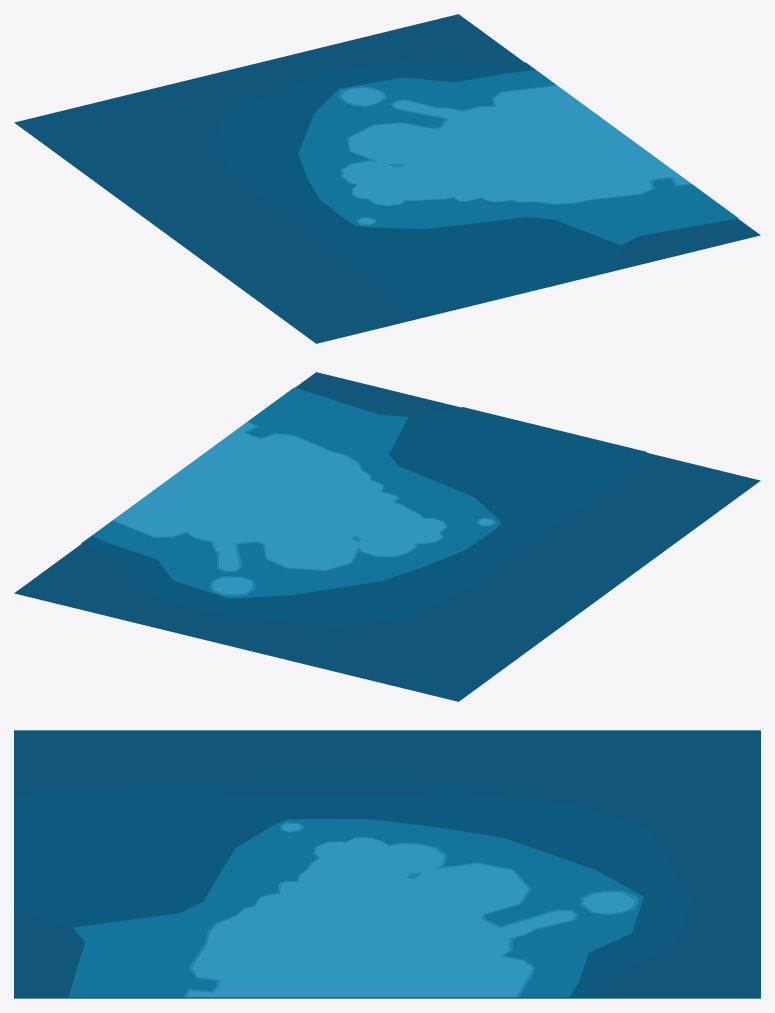
File: kd_stage_1364a3_8_0_bounded.glb
3 views of the same model, one above another, from view 1: azimuth 30°, elevation 25°; view 2: azimuth 150°, elevation 25°; view 3: azimuth 270°, elevation 25° (orthographic). The views are drawn at different scales.
Visible parts, largest first — view 1: kd_stage_1364a3_8_0_bounded; view 2: kd_stage_1364a3_8_0_bounded; view 3: kd_stage_1364a3_8_0_bounded.
Part boxes in pixels (x1=…): kd_stage_1364a3_8_0_bounded: x1=14, y1=14, x2=760, y2=343; kd_stage_1364a3_8_0_bounded: x1=14, y1=372, x2=760, y2=701; kd_stage_1364a3_8_0_bounded: x1=14, y1=730, x2=760, y2=998.
Size of the model in its own units: 661 by 1.23 by 779.
1 material, 1 textured.
